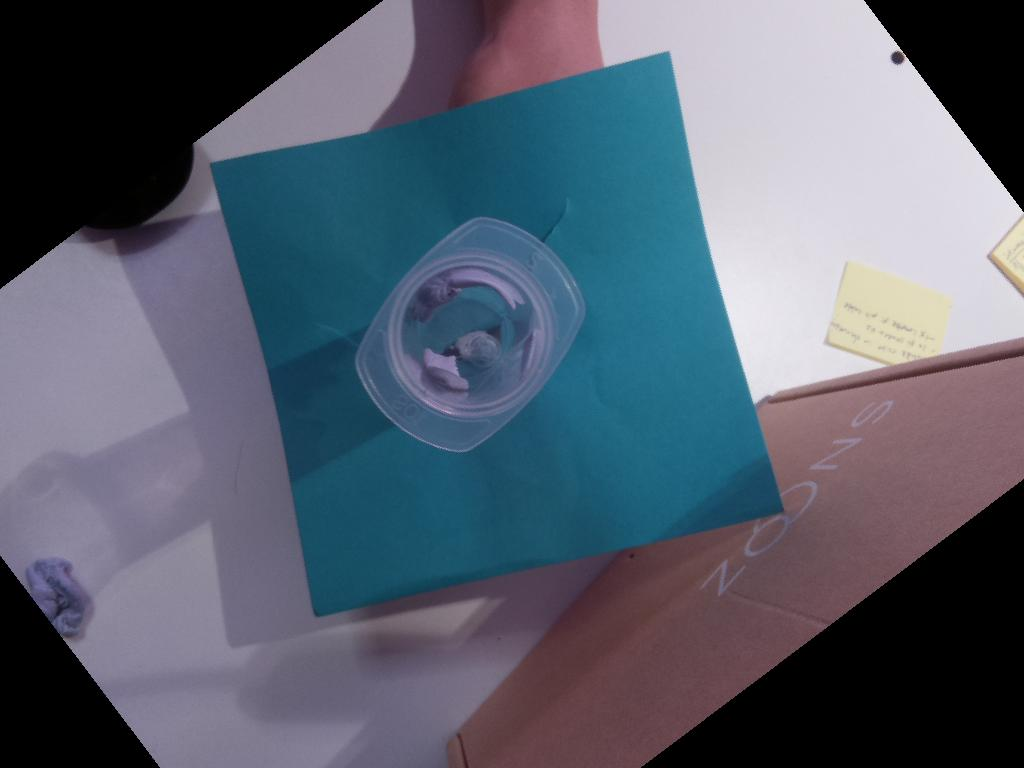dirty: (353, 210, 589, 458)
